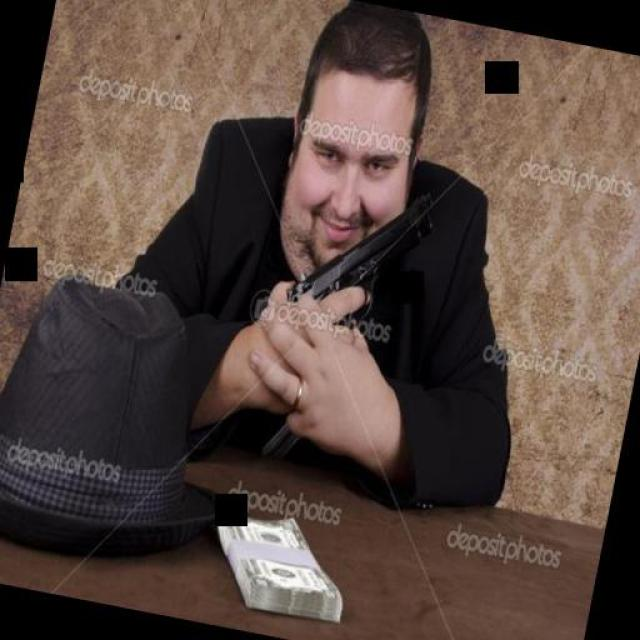gun: (265, 188, 426, 364)
